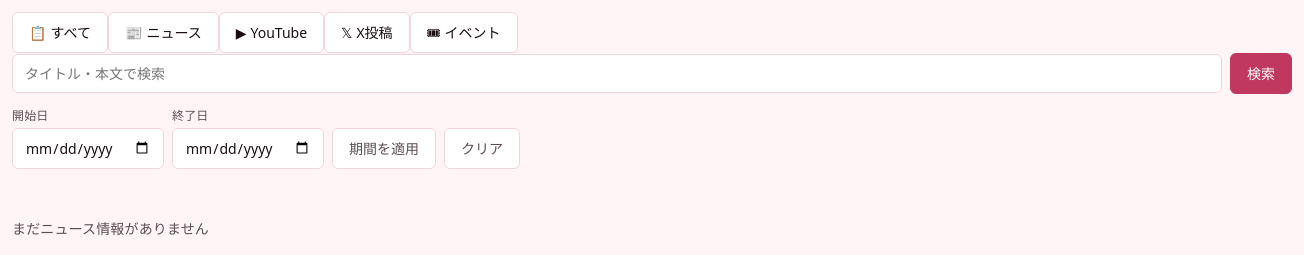
Test case: NewsFeedList › ソースタイプフィルタ選択後 0件のとき「該当するニュースが見つかりません」が表示される
Click the radio button labelled "🎟 イベント".
click(464, 33)  # box [410,12,518,53]
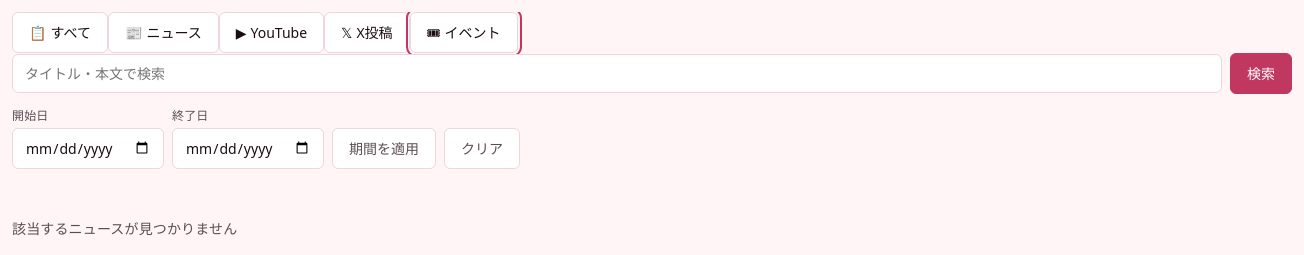
Now the text "該当するニュースが見つかりません" is shown, box [12,219,237,238]
